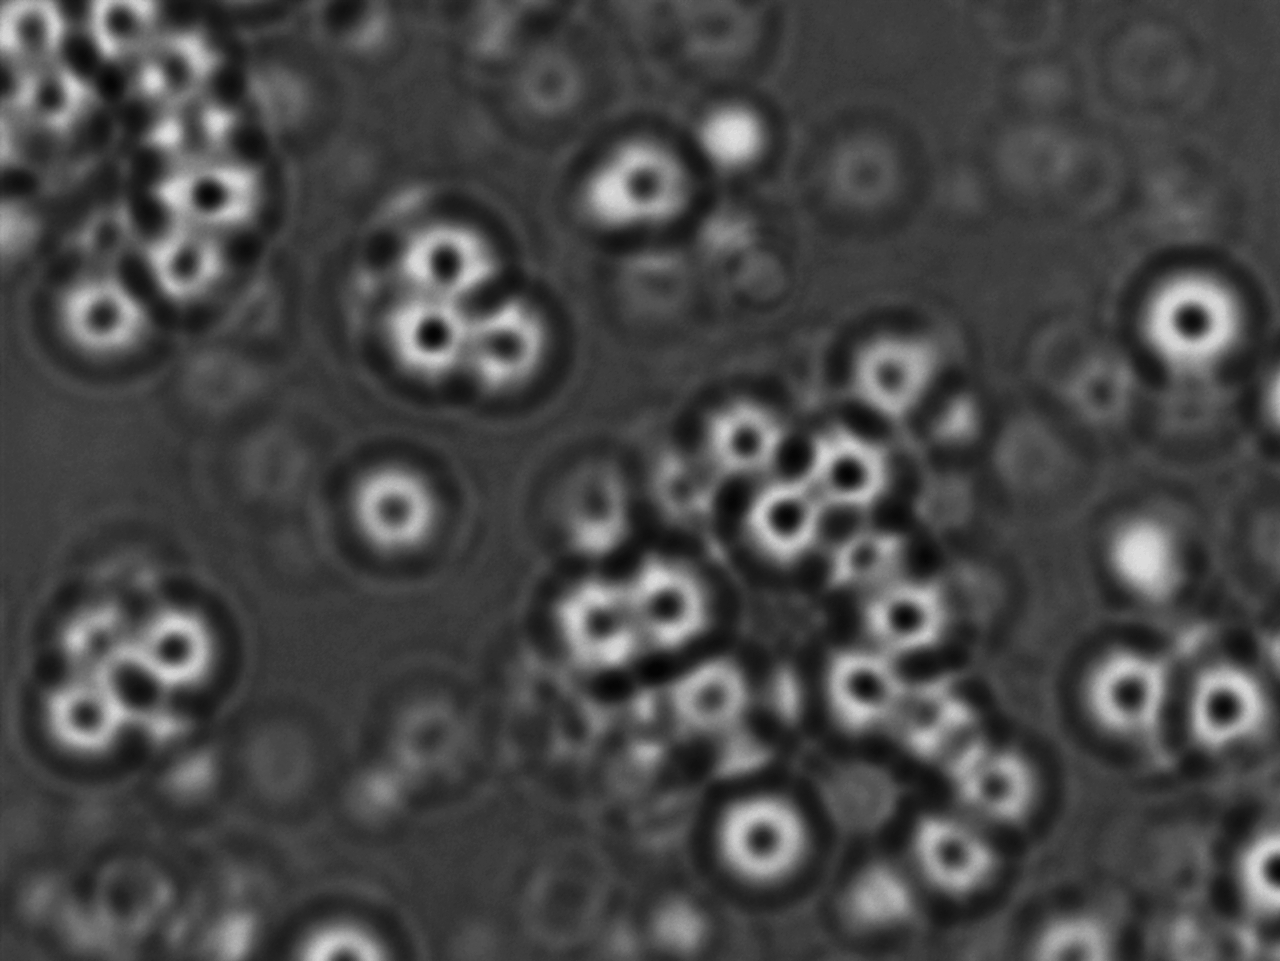depth:32: (1121, 241, 1278, 383), (325, 443, 465, 583), (112, 584, 239, 712), (699, 777, 827, 903), (585, 123, 711, 251), (1062, 623, 1181, 755), (391, 198, 506, 321), (807, 626, 927, 739), (367, 285, 483, 401), (452, 290, 568, 404), (850, 558, 963, 669), (132, 208, 242, 322), (725, 457, 837, 568), (48, 256, 158, 364), (152, 140, 260, 247)
